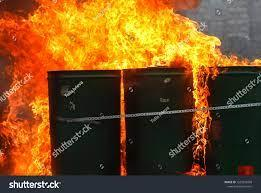fire: (11, 0, 196, 71), (0, 87, 52, 177), (196, 0, 260, 57), (193, 77, 219, 151)
